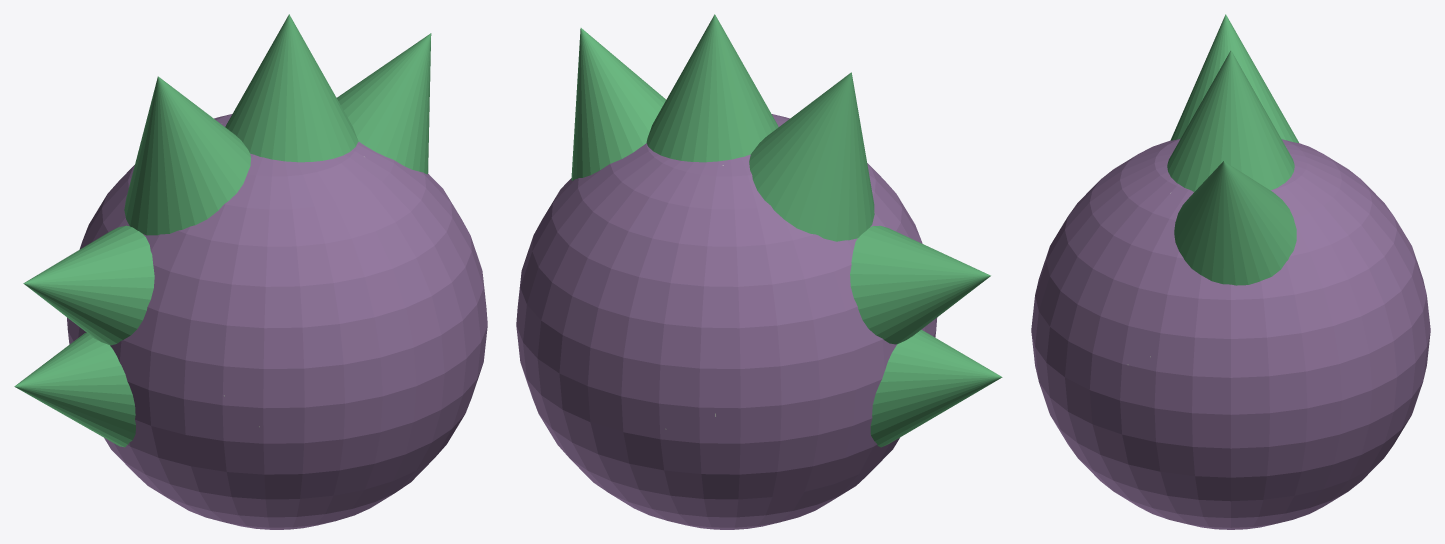
Rendered from sketchpunk.fbx.
The picture shows the model from 3 angles, left to right: view 1: azimuth 30°, elevation 25°; view 2: azimuth 150°, elevation 25°; view 3: azimuth 270°, elevation 25°; orthographic projection. The views are drawn at different scales.
Visible parts, largest first — view 1: skp3A22_1; view 2: skp3A22_1; view 3: skp3A22_1.
Boxes of the visible parts, x1,y1,x2,y2 form: skp3A22_1: (14,14,487,529); skp3A22_1: (516,14,1002,529); skp3A22_1: (1031,14,1430,529).
Size of the model in its own units: 2.47 by 2.58 by 2.
